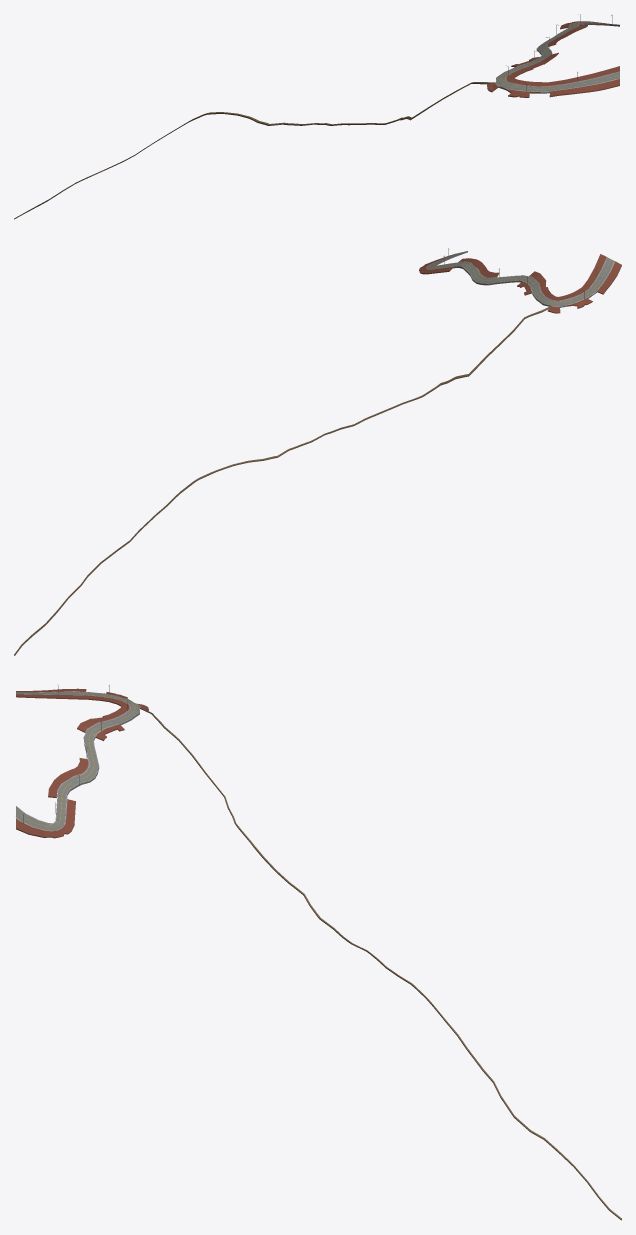
3 views of the same model, one above another, from view 1: azimuth 90°, elevation 25°; view 2: azimuth 150°, elevation 25°; view 3: azimuth 270°, elevation 25° (orthographic). The views are drawn at different scales.
Size of the model in its own units: 300 by 234 by 377.
